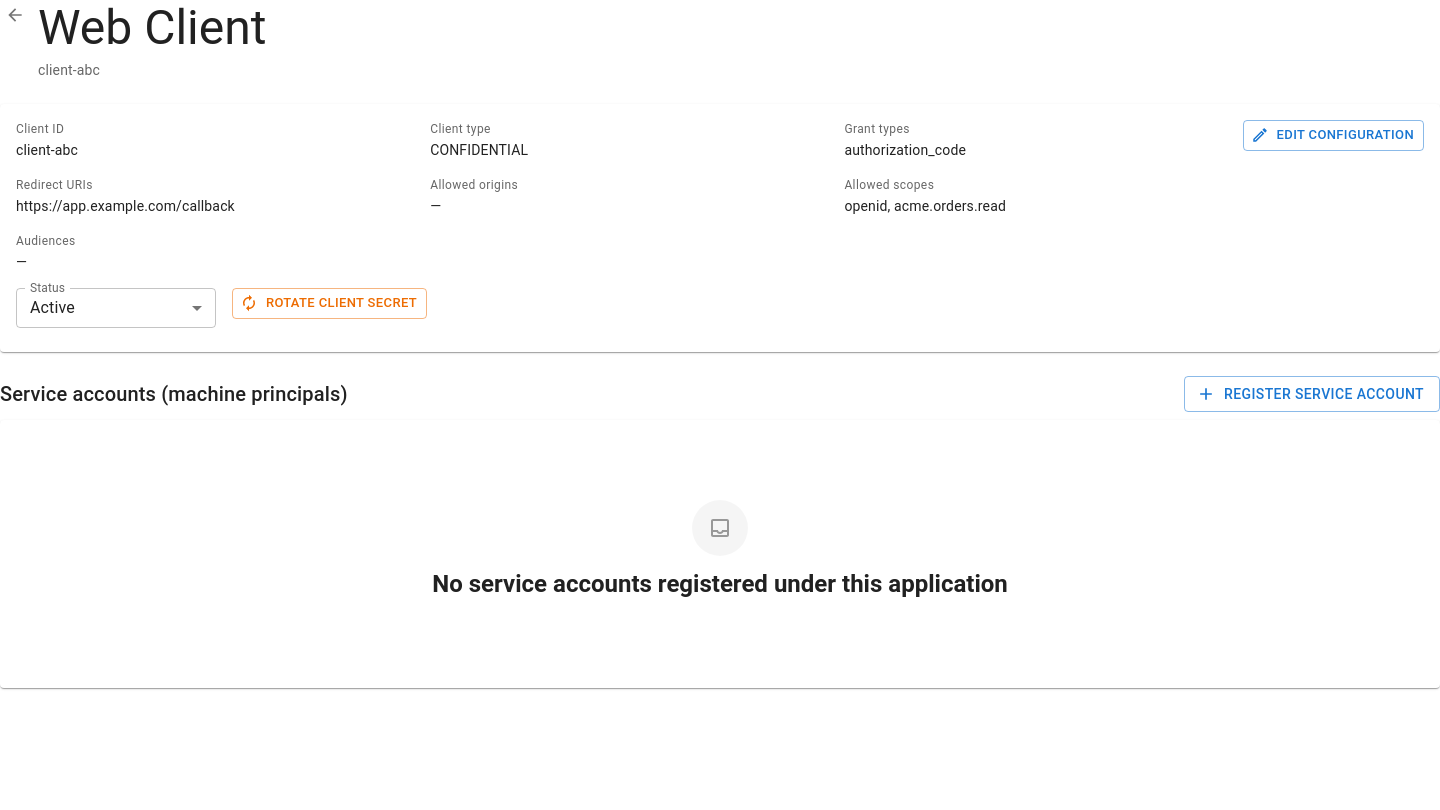
PlatformApplicationDetailPage — configuration editing › opens pre-filled with the application's real values, never inventing implicit/PUBLIC options
This screenshot has width=1440, height=810.
Expected: the heading "Web Client" is shown, x1=38 y1=0 x2=266 y2=56
Click the button "Edit configuration" at (1333, 135), box x1=1243 y1=120 x2=1424 y2=151
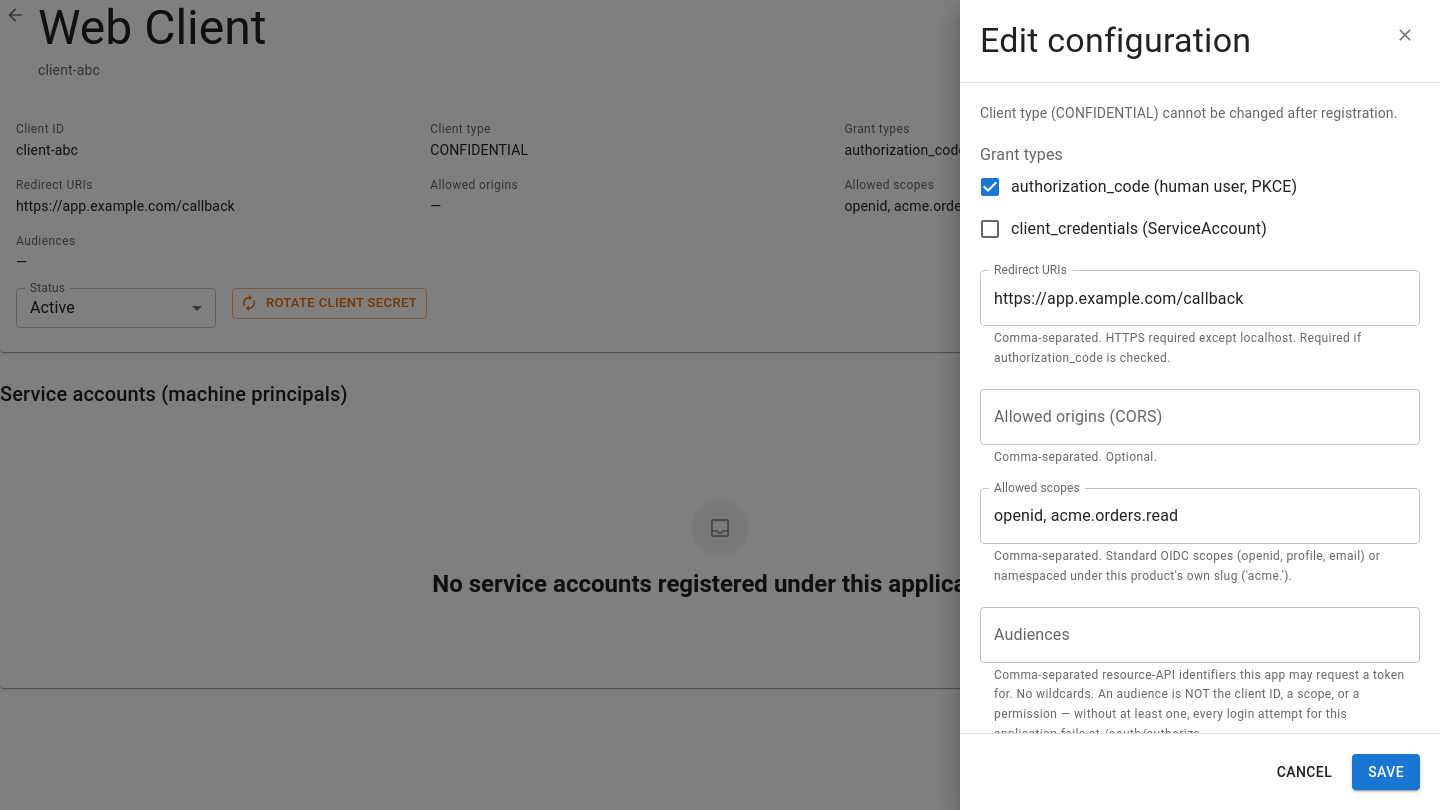
Expected: the checkbox labelled "authorization_code (human user, PKCE)" is checked, x1=978 y1=175 x2=1297 y2=199
Expected: the checkbox labelled "client_credentials (ServiceAccount)" is not checked, x1=978 y1=217 x2=1267 y2=241
Expected: the field labelled "Redirect URIs" holds "https://app.example.com/callback", x1=980 y1=270 x2=1420 y2=326
